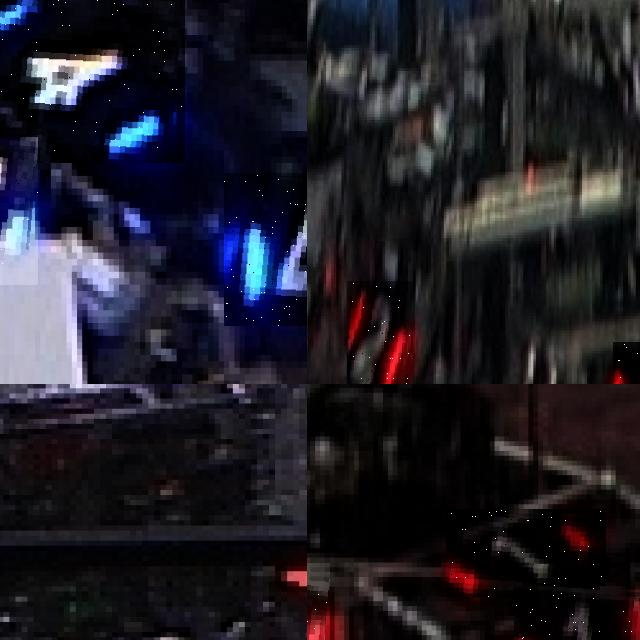B4: (0, 0, 184, 163), (224, 172, 307, 326), (0, 137, 38, 284)
R1: (446, 509, 606, 597), (513, 586, 640, 640)
R2: (346, 281, 415, 384)
